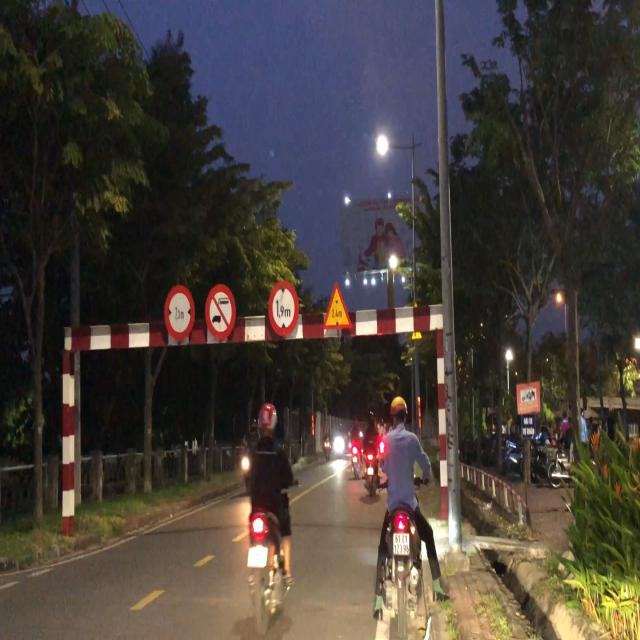Bien bao cam xe oto khach va xe oto tai: (202, 281, 238, 347)
Bien bao chieu cao tinh khong thuc te: (320, 278, 356, 340)
Bien bao han che chieu cao: (268, 277, 303, 346)
